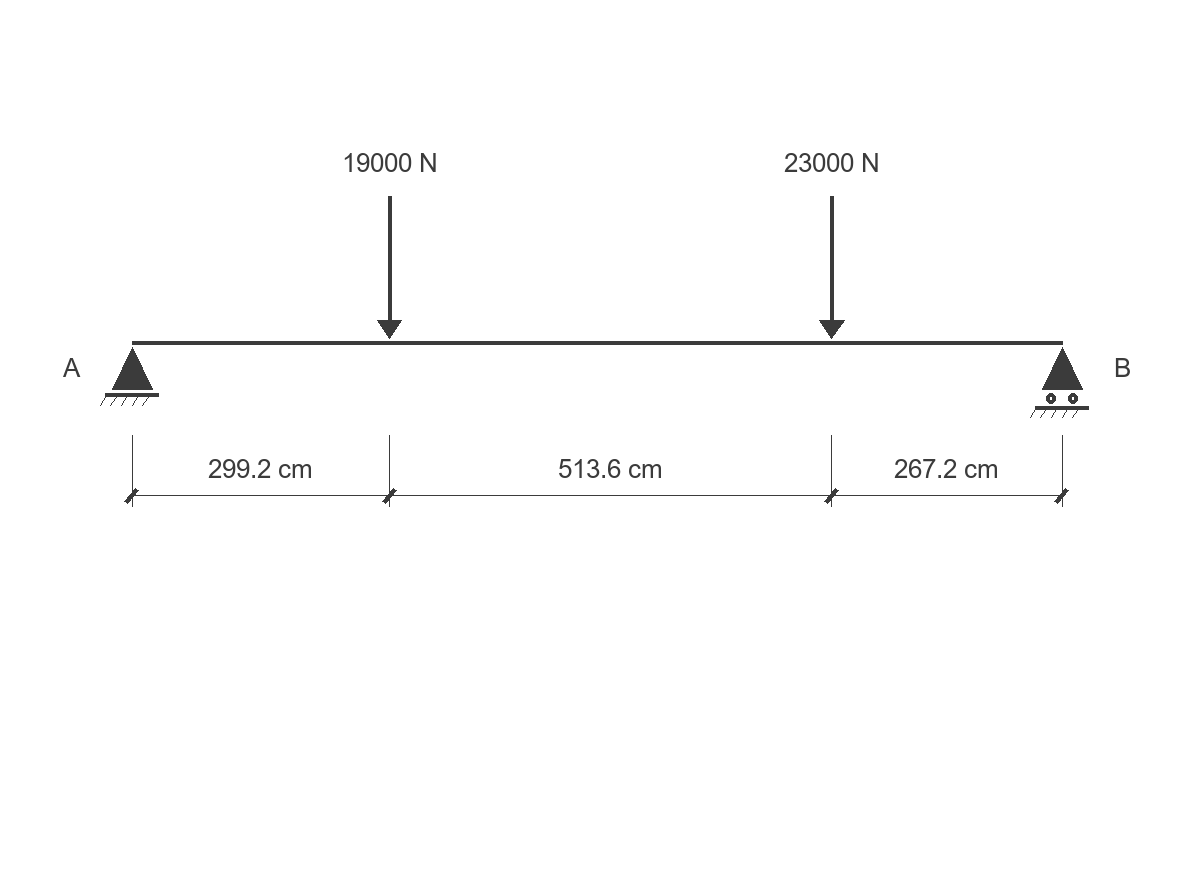pin_support: (100, 347, 159, 406)
point_load: (819, 196, 845, 339), (377, 196, 402, 339)
roller_support: (1030, 347, 1089, 418)
